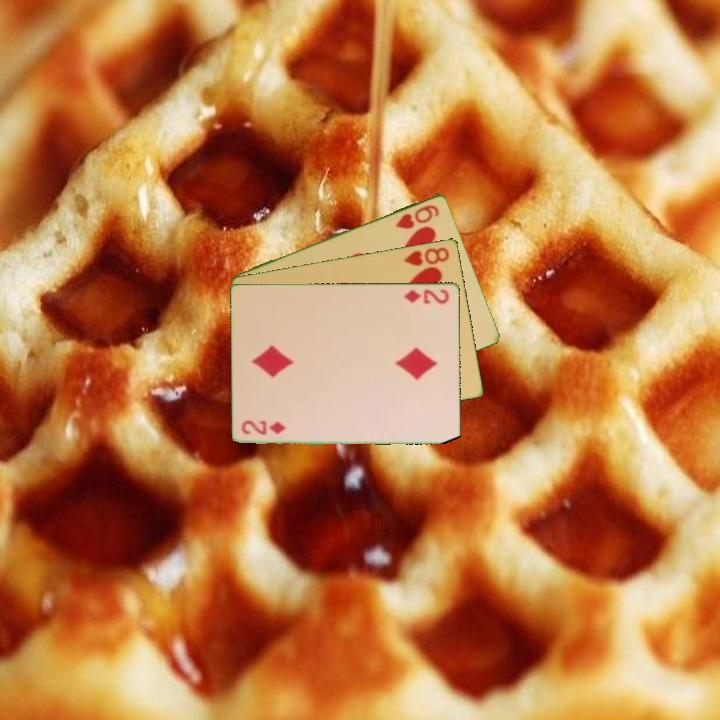2d: (401, 286, 452, 307), (238, 418, 289, 437)
6h: (392, 201, 442, 231)
8h: (400, 243, 452, 268)
